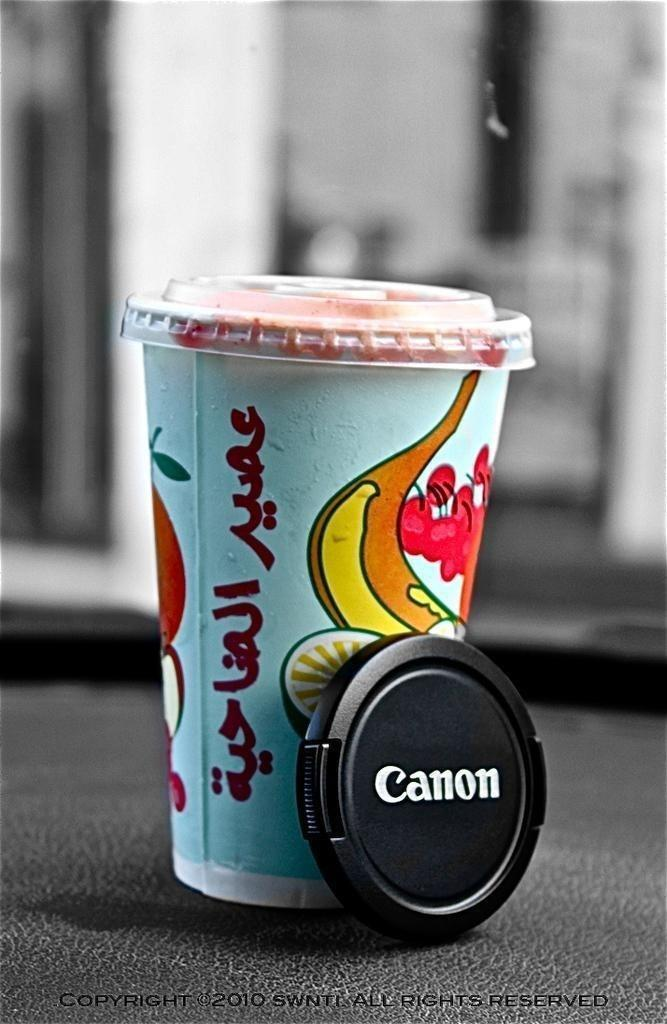cup-disposable: (115, 270, 550, 938)
